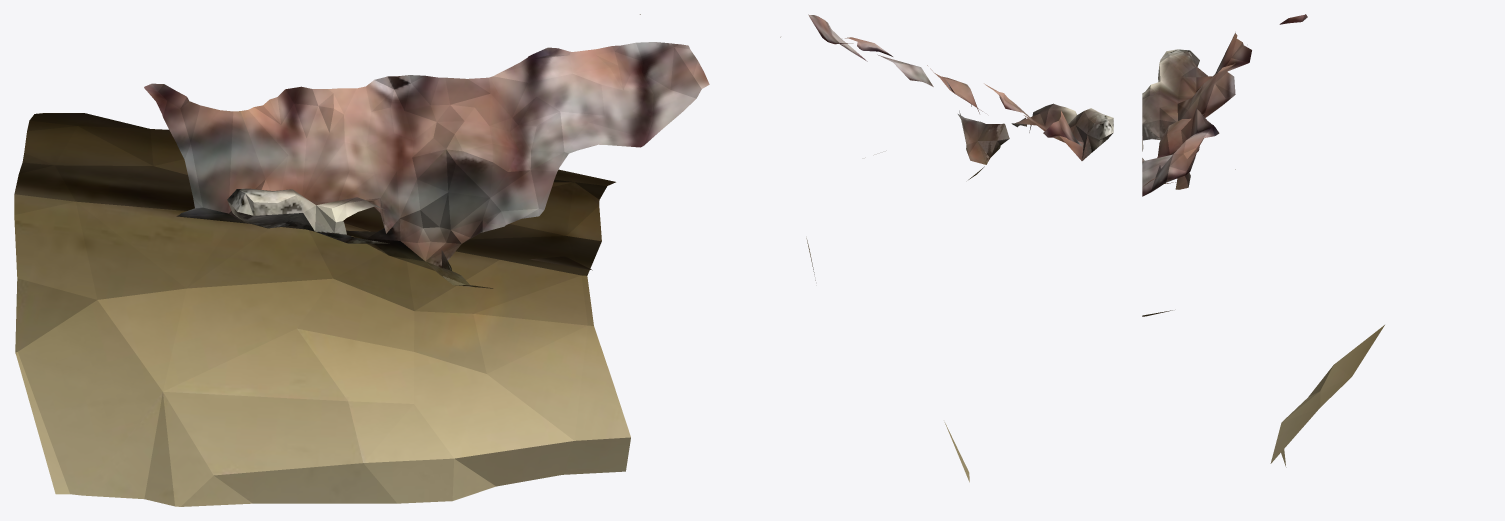
3 renders of one model, left to right at view 1: azimuth 30°, elevation 25°; view 2: azimuth 150°, elevation 25°; view 3: azimuth 270°, elevation 25°, orthographic. The views are drawn at different scales.
Size of the model in its own units: 0.8374 by 0.8374 by 0.7859.
Materials: 4 (4 with a texture image).
